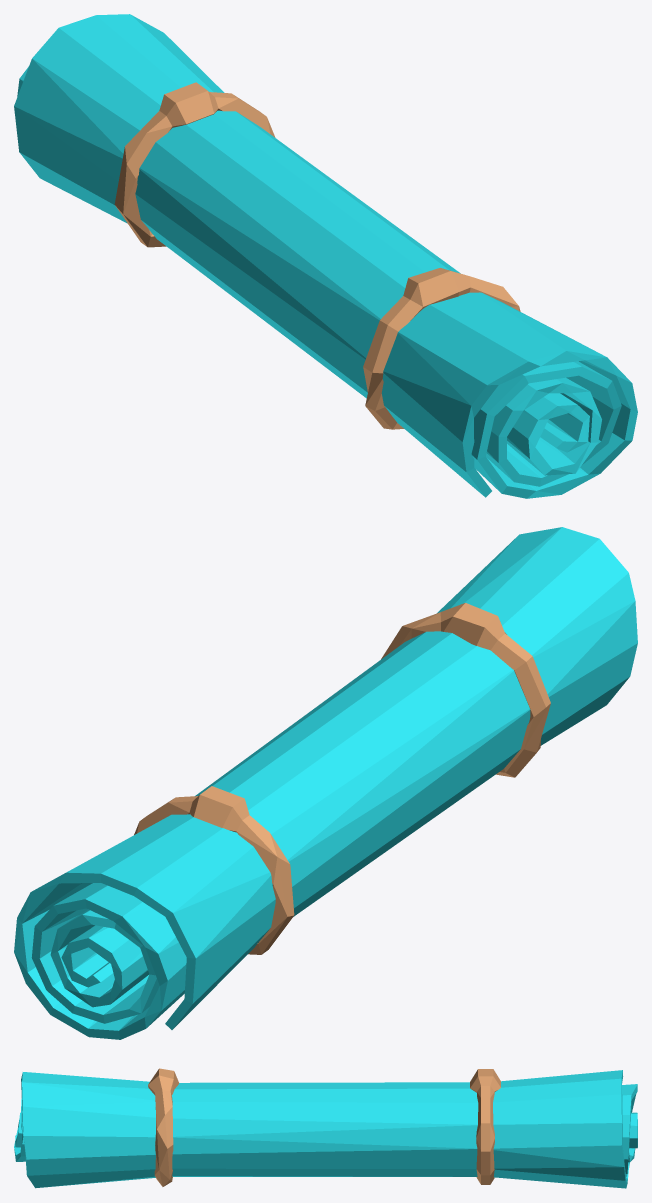
File: Cloth 07.fbx
3 views of the same model, one above another, from view 1: azimuth 30°, elevation 25°; view 2: azimuth 150°, elevation 25°; view 3: azimuth 270°, elevation 25° (orthographic). The views are drawn at different scales.
Visible parts, largest first — view 1: Cloth 07; view 2: Cloth 07; view 3: Cloth 07.
Boxes of the visible parts, x1,y1,x2,y2 form: Cloth 07: (14,14,637,498); Cloth 07: (14,527,637,1039); Cloth 07: (14,1068,637,1188).
Bounding box in the file's own units: 41.79 × 37.79 × 202.
